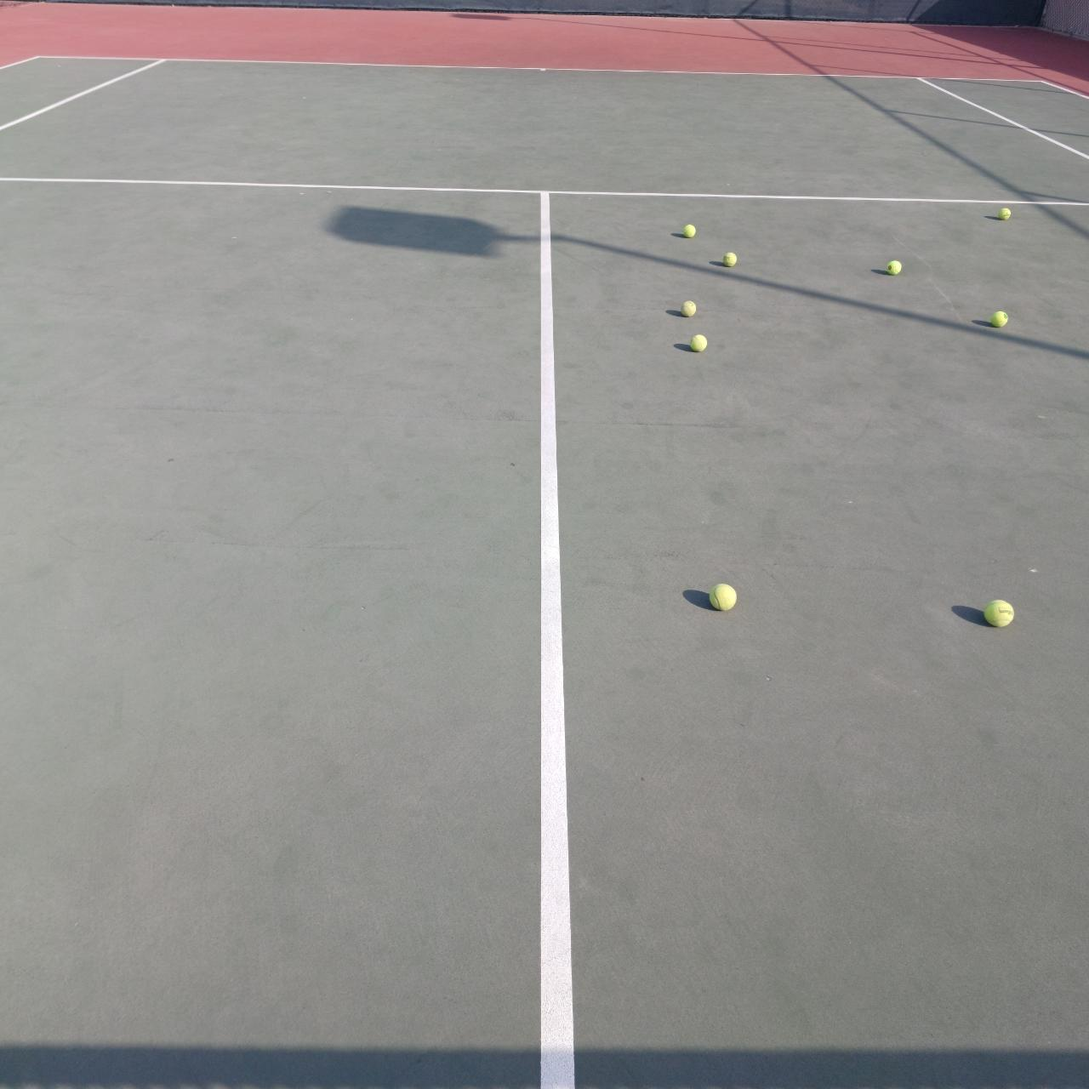tennis-ball: (983, 597, 1014, 627), (708, 580, 737, 611), (989, 309, 1008, 328), (689, 332, 707, 351), (681, 298, 696, 316), (887, 258, 902, 274), (722, 250, 737, 266), (681, 221, 696, 237), (999, 205, 1011, 220)
